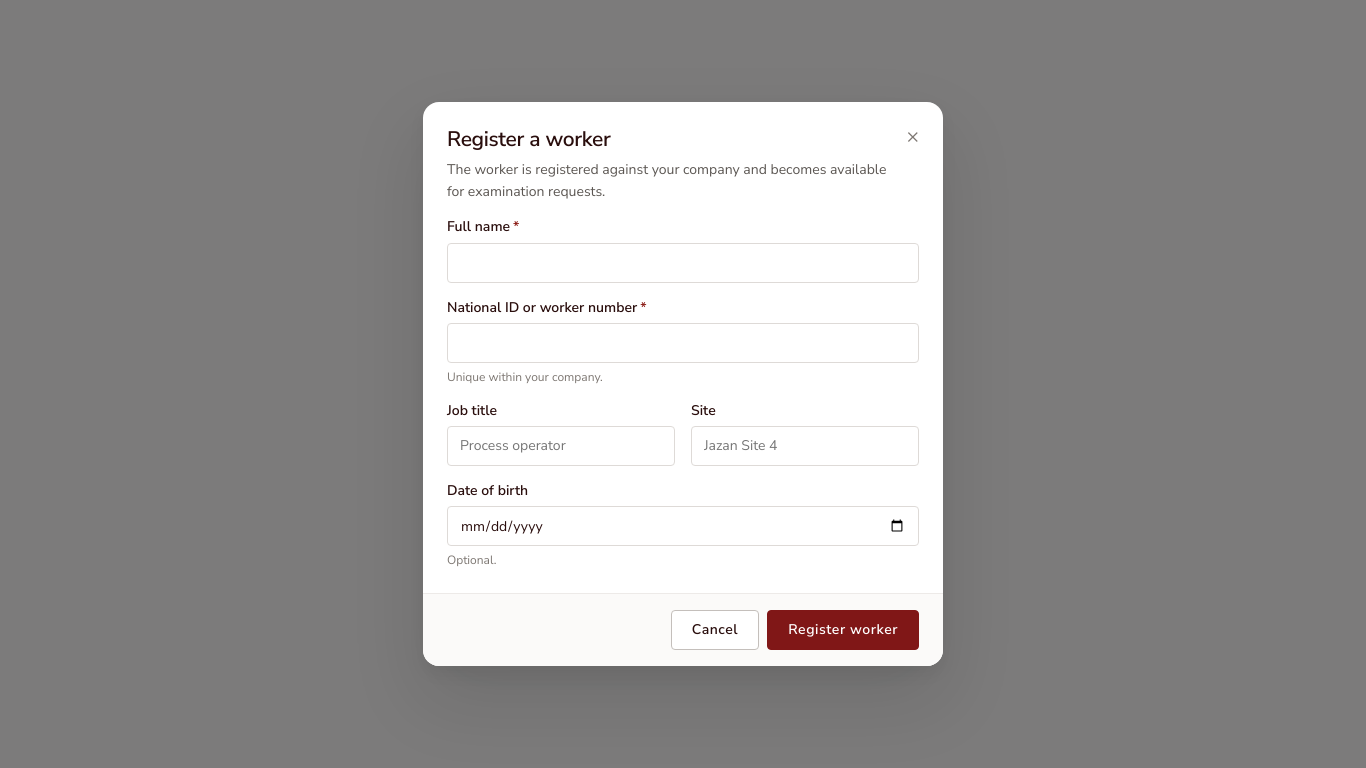
Scenario: EmployeeFormModal validation › blocks submission and shows field errors when required fields are empty
This screenshot has width=1366, height=768.
Click the button "Register worker".
click(843, 630)  # box left=767, top=610, right=919, bottom=650
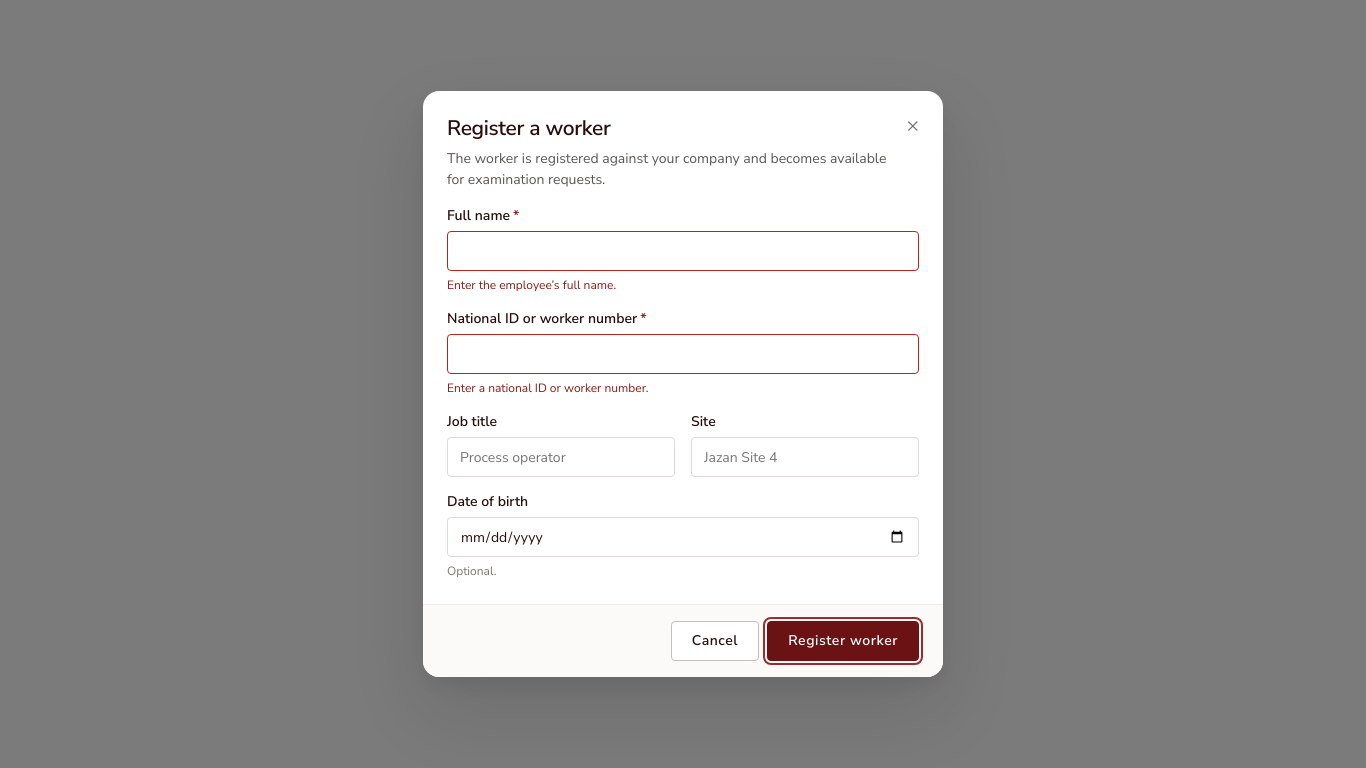
Now the text "Enter the employee’s full name." is shown, box left=447, top=277, right=616, bottom=293
Now the text "Enter a national ID or worker number." is shown, box left=447, top=380, right=648, bottom=396
